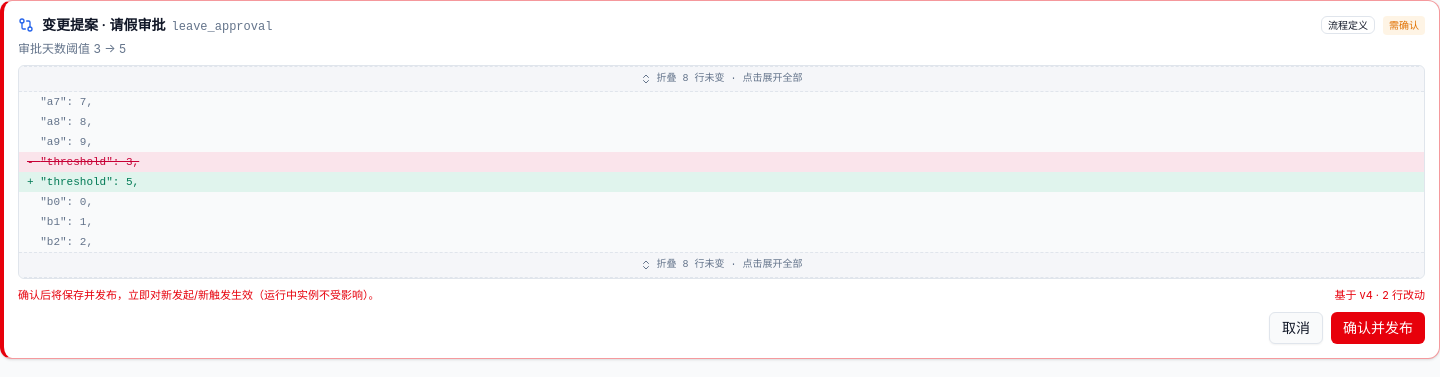
Test: devDiff 卡 › 确认 → confirmActionV2(actionId, Idempotency-Key) → 成功态 + 广播 asset-changed
The width and height of the screenshot is (1440, 377).
Click the button "确认并发布".
click(1378, 328)  # box left=1331, top=312, right=1425, bottom=344
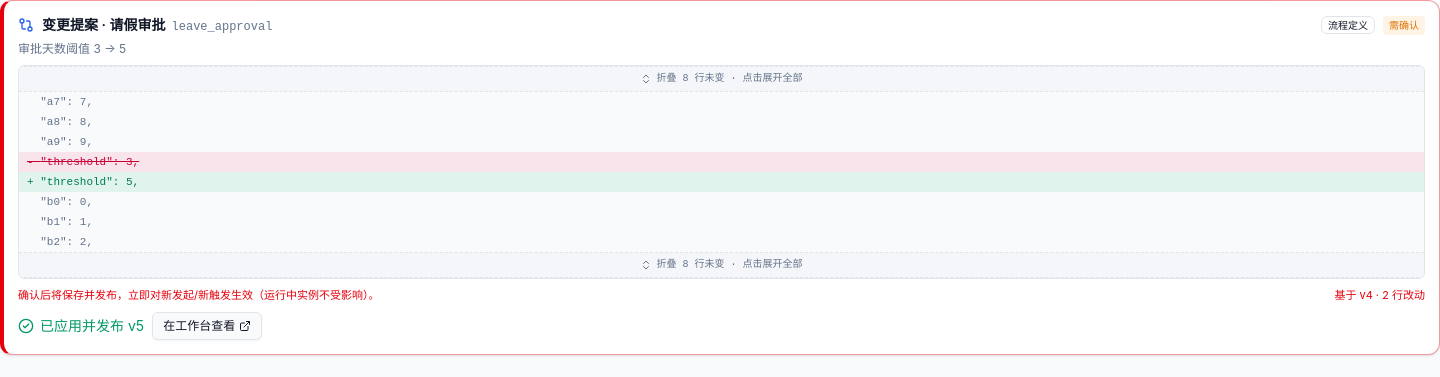
Expected: the text "已应用并发布 v5" is shown, left=18, top=316, right=144, bottom=336
Expected: the button "在工作台查看" is shown, left=152, top=312, right=262, bottom=340
